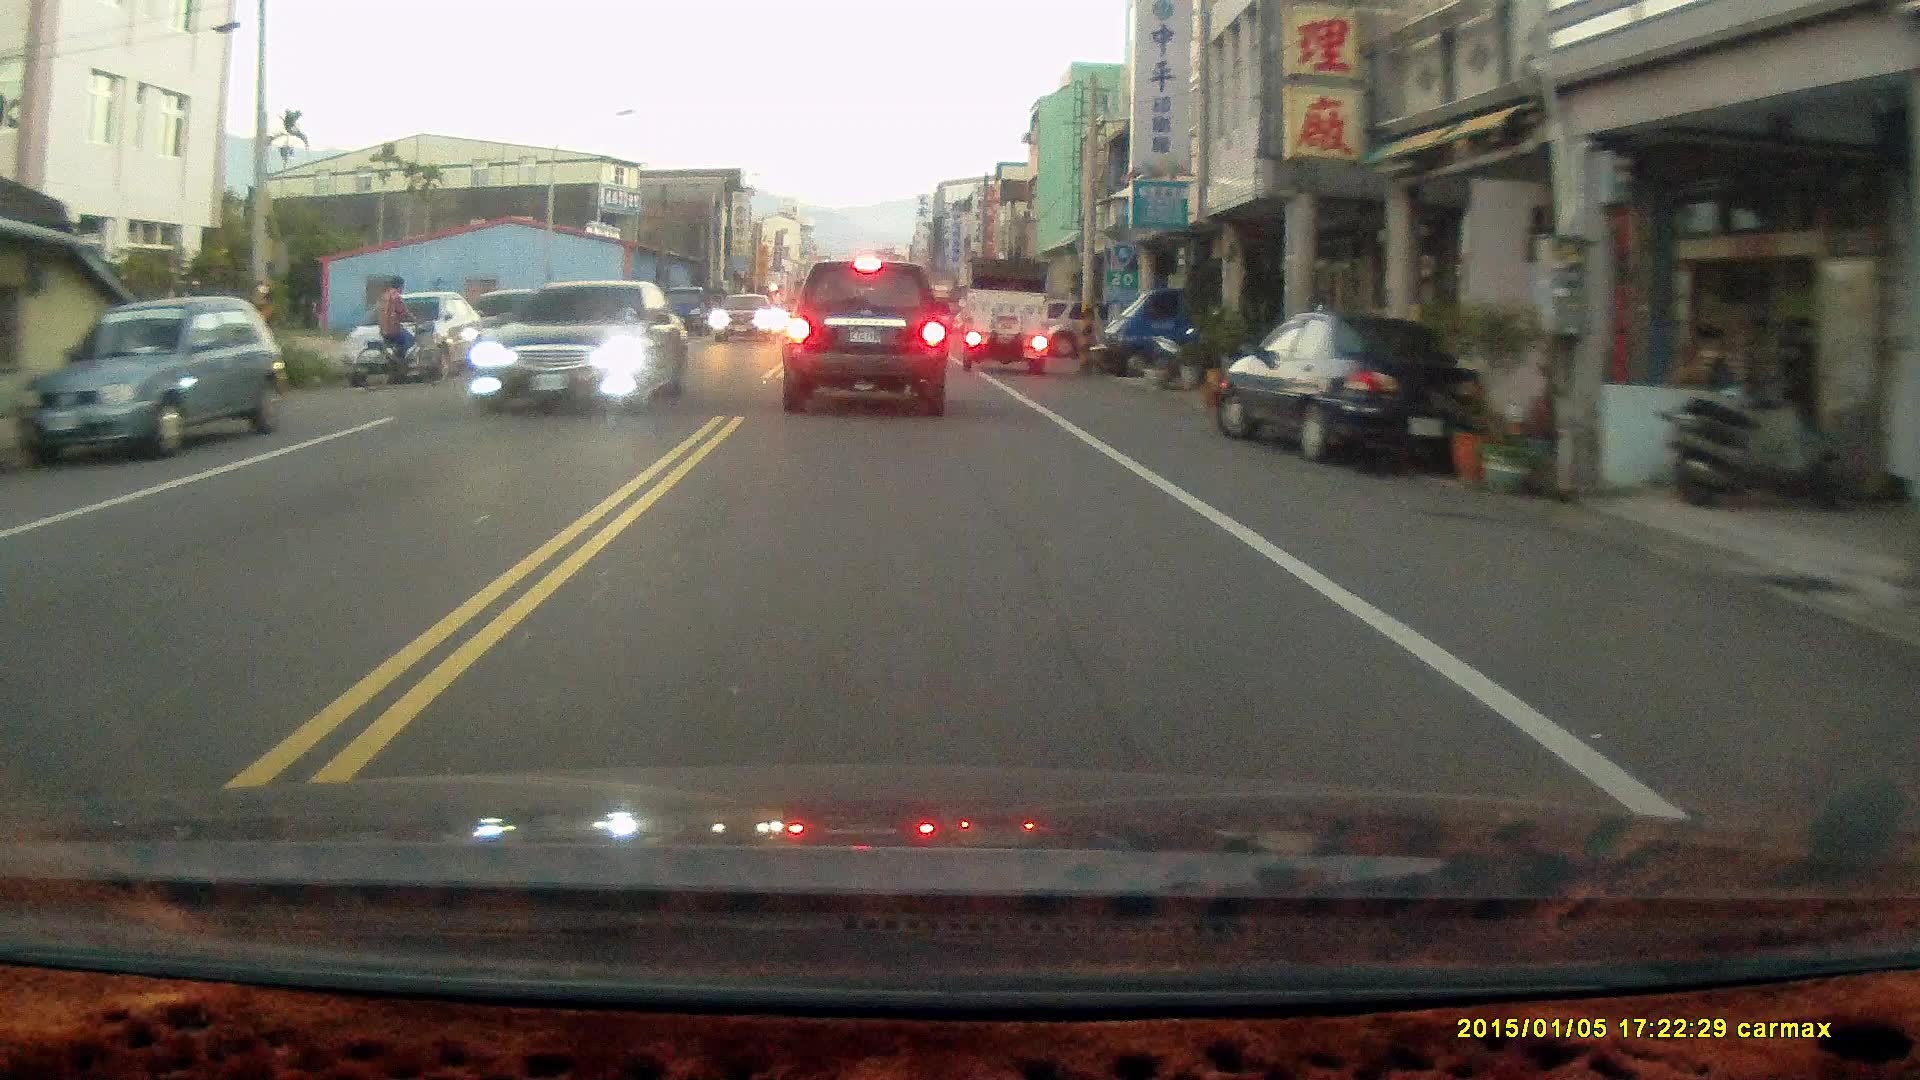rider: (349, 277, 451, 390)
vehicle: (19, 295, 282, 465), (1214, 313, 1486, 470), (467, 282, 695, 420), (785, 265, 950, 422), (1091, 275, 1238, 382), (341, 297, 499, 392), (958, 258, 1051, 374), (714, 300, 784, 348)
